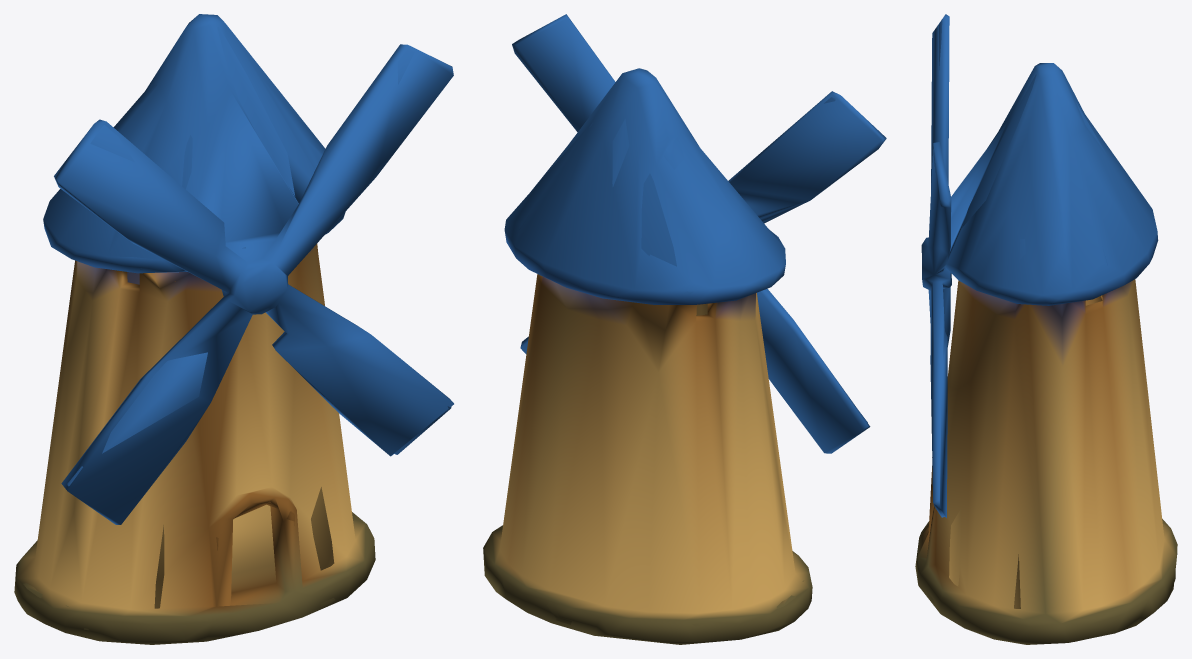
File: gen3d-windmill-lod1.glb
3 views of the same model, side by side, from view 1: azimuth 30°, elevation 25°; view 2: azimuth 150°, elevation 25°; view 3: azimuth 270°, elevation 25° (orthographic). The views are drawn at different scales.
Visible parts, largest first — view 1: part_0; view 2: part_0; view 3: part_0.
Boxes of the visible parts, left/top/right/bottom form: part_0: left=14, top=14, right=453, bottom=644; part_0: left=483, top=14, right=886, bottom=644; part_0: left=915, top=14, right=1177, bottom=644.
Size of the model in its own units: 0.7436 by 0.9928 by 0.4582.
